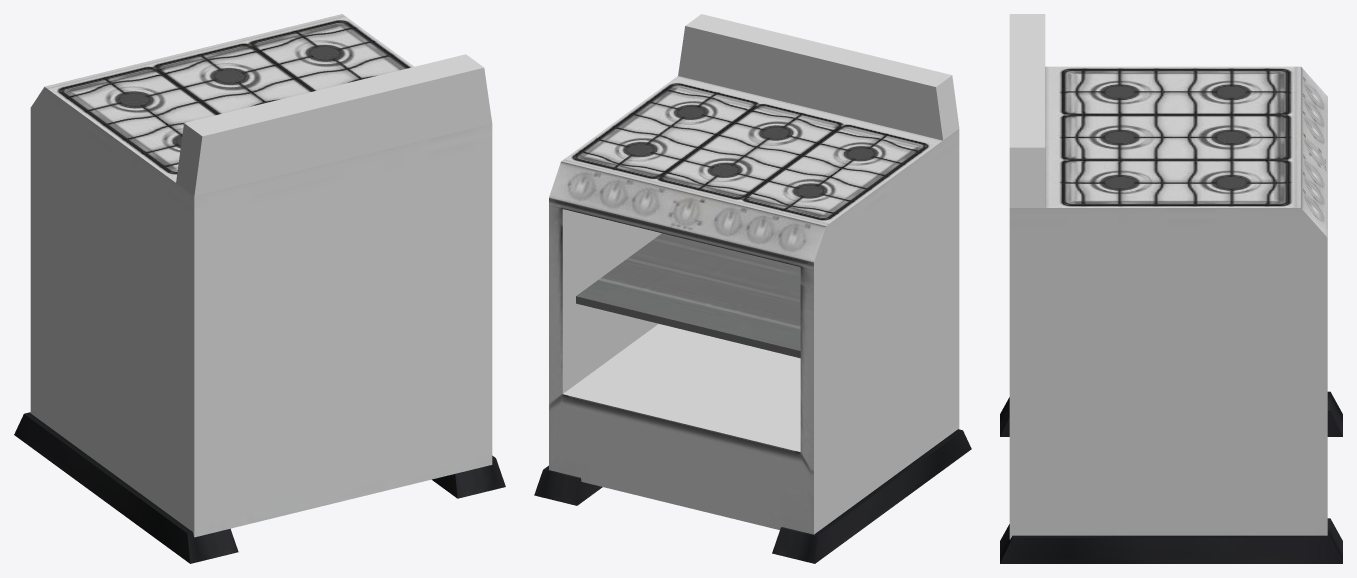
Rendered from Stove.glb.
3 views of the same model, side by side, from view 1: azimuth 30°, elevation 25°; view 2: azimuth 150°, elevation 25°; view 3: azimuth 270°, elevation 25° (orthographic). The views are drawn at different scales.
Visible parts, largest first — view 1: Stove; view 2: Stove; view 3: Stove.
Part boxes in pixels (x1,y1,x2,y2): Stove: [14, 14, 505, 563]; Stove: [534, 14, 971, 563]; Stove: [1000, 14, 1342, 563].
Size of the model in its own units: 0.9628 by 1.22 by 0.9315.
1 material, 1 textured.
